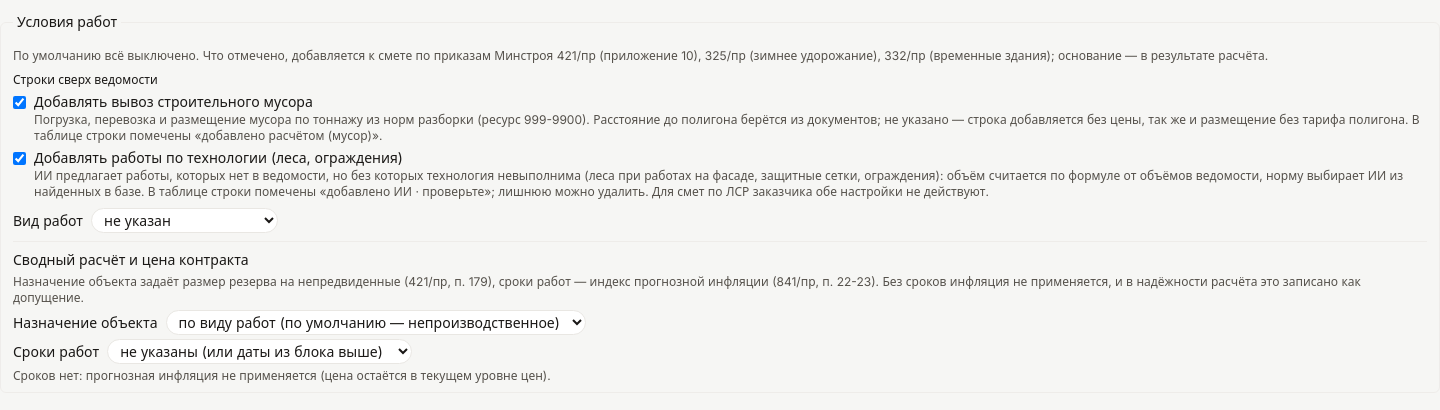
Test: «Условия работ»: назначение объекта и сроки для сводного расчёта › «в течение N месяцев с даты контракта»
The image size is (1440, 410).
Select "в течение N месяцев с даты контракта" in the dropdown named "Как заданы сроки работ" at (260, 352), box [107,339,412,364]
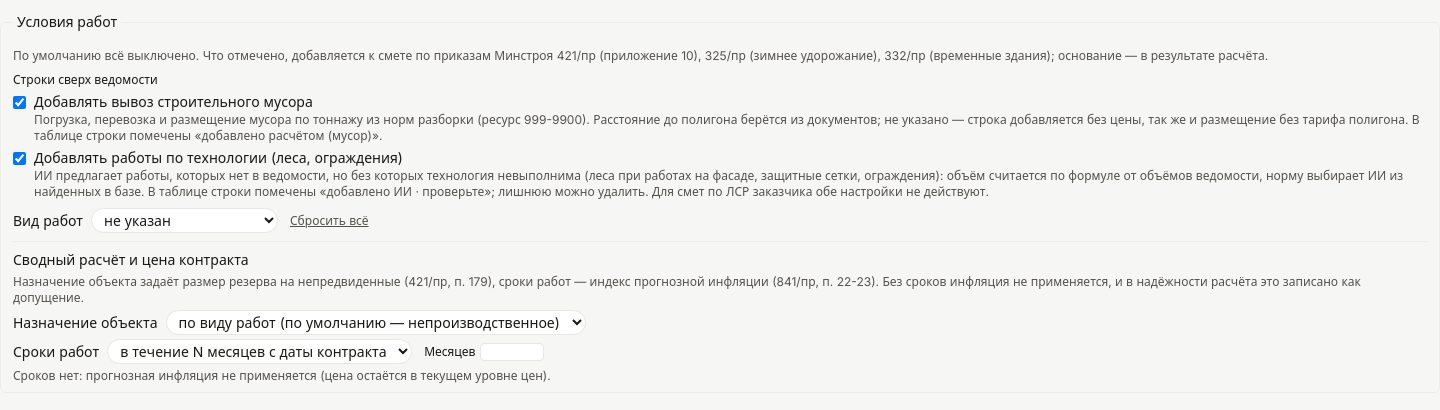
Type "2" into the number field named "Срок работ, месяцев" at (512, 352), box [480,342,544,360]
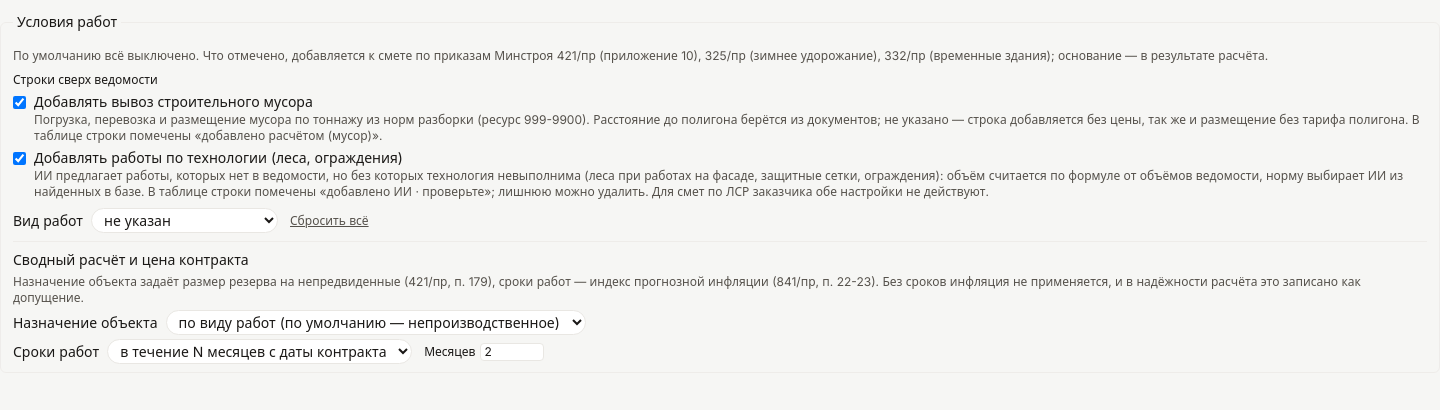
Expected: the text with test id "ssr-no-period" is gone
